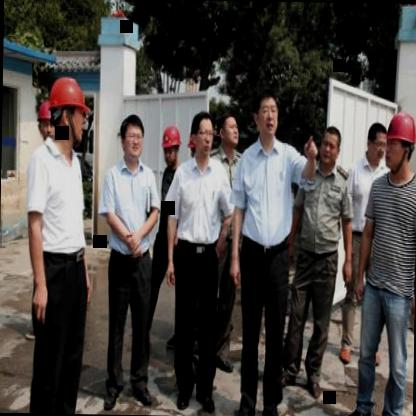head: (252, 86, 282, 141), (117, 110, 147, 163), (188, 106, 216, 159), (216, 102, 243, 152), (360, 118, 384, 164), (318, 123, 343, 167)
helmet: (46, 72, 89, 152), (384, 108, 416, 174), (160, 122, 183, 170), (36, 99, 52, 144)
